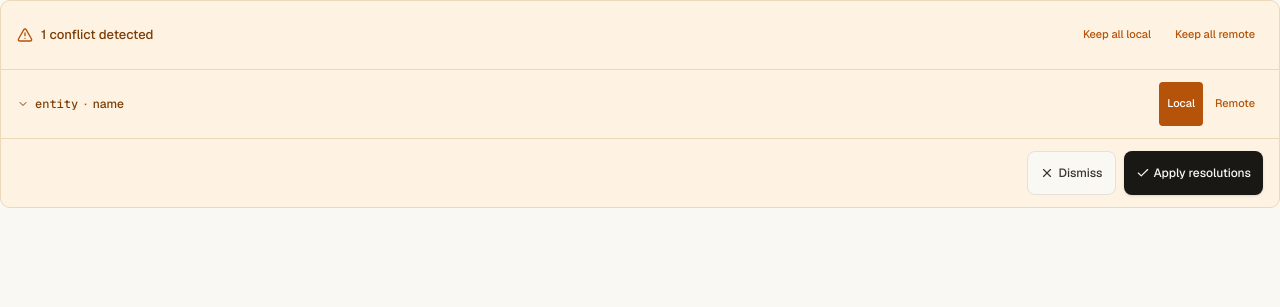
Test: ConflictUI › expands conflict details on click
The image size is (1280, 307).
Click the expand button (the one with entity type and field)
Click the text "entity".
click(57, 104)  # box [35,96,78,112]
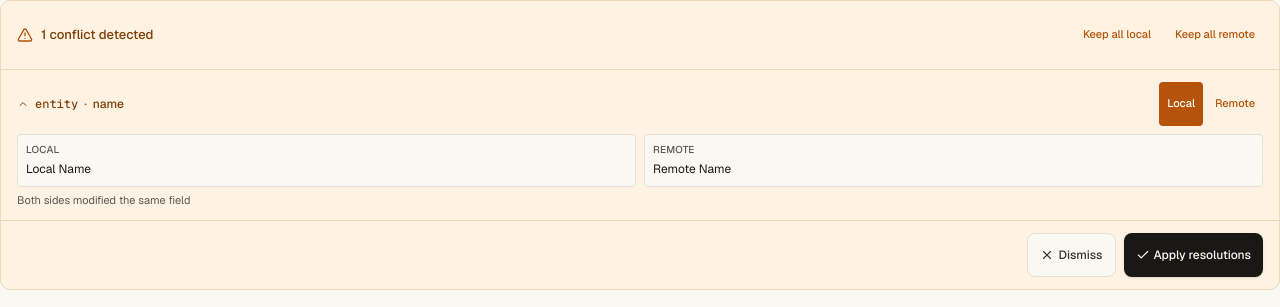
Result: the text "Local Name" is shown at [26,161,91,177]
Result: the text "Remote Name" is shown at [653,161,731,177]
Result: the text "Both sides modified the same field" is shown at [17,193,190,207]
